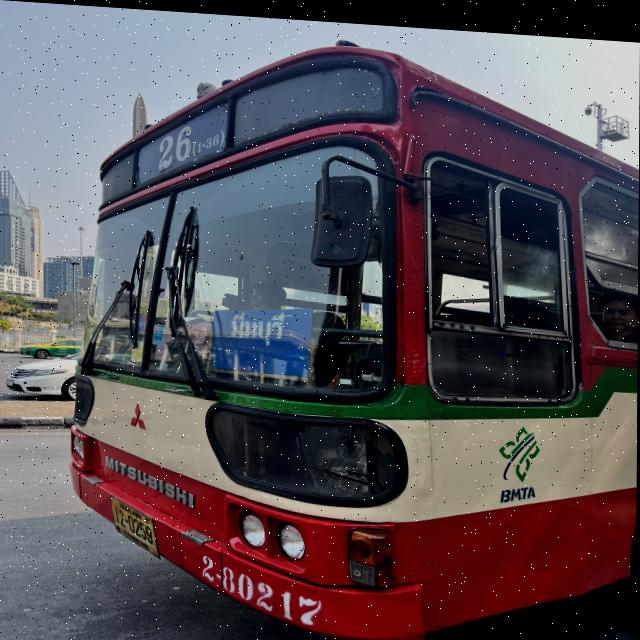BMTA-bus: (65, 38, 639, 640)
Bus Line Number: (137, 99, 226, 185)
Bus Side Number: (194, 543, 336, 634)
Destination Sign: (213, 303, 315, 372)
